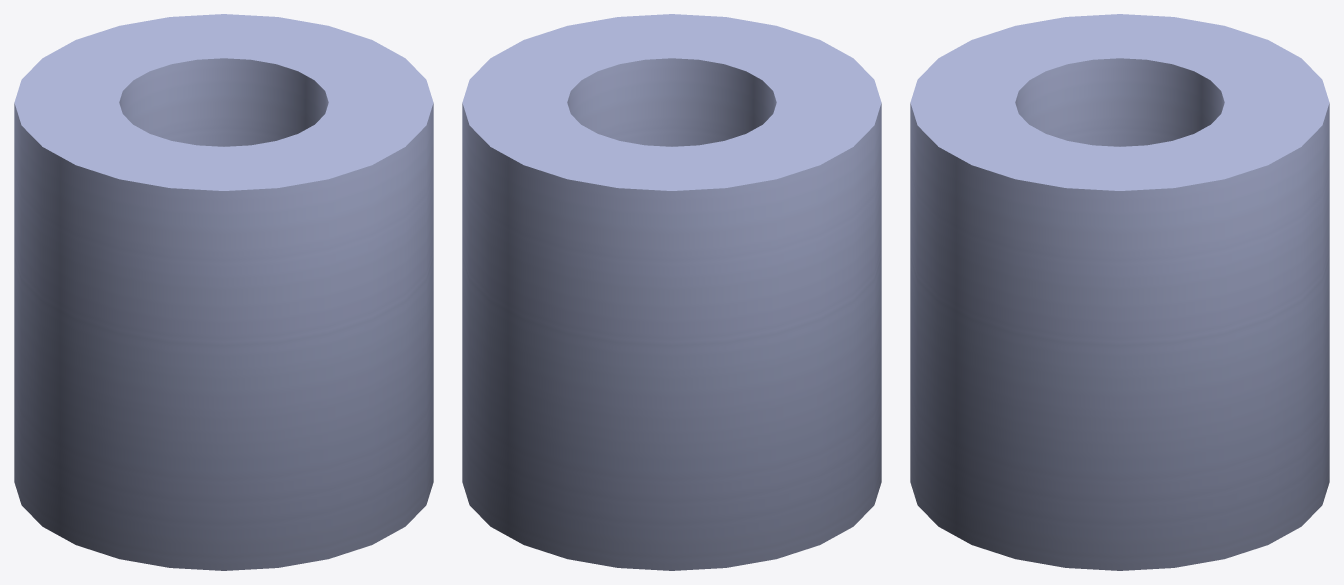
The model's file is shape-hollow-cylinder-detailed.fbx.
3 views of the same model, side by side, from view 1: azimuth 30°, elevation 25°; view 2: azimuth 150°, elevation 25°; view 3: azimuth 270°, elevation 25° (orthographic).
Parts seen in each view (by area): view 1: shape-hollow-cylinder-detailed; view 2: shape-hollow-cylinder-detailed; view 3: shape-hollow-cylinder-detailed.
Boxes of the visible parts, x1,y1,x2,y2 form: shape-hollow-cylinder-detailed: [14, 14, 433, 570]; shape-hollow-cylinder-detailed: [462, 14, 881, 570]; shape-hollow-cylinder-detailed: [910, 14, 1329, 570].
Size of the model in its own units: 100 by 100 by 100.
